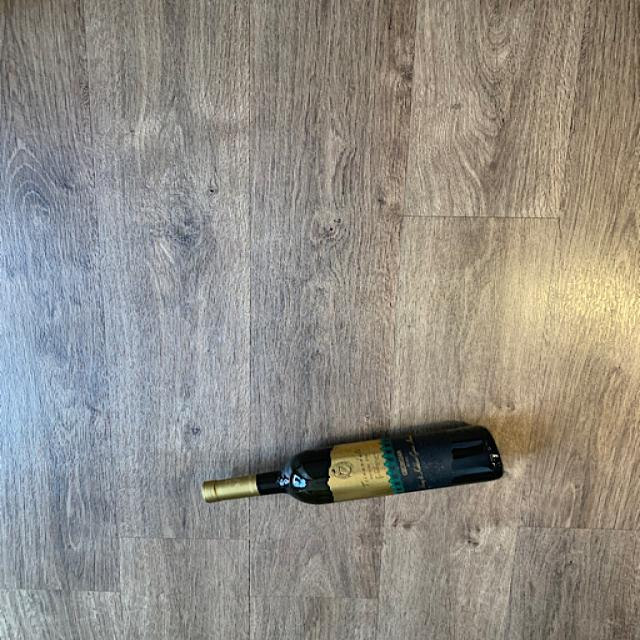litter: (200, 426, 520, 504)
